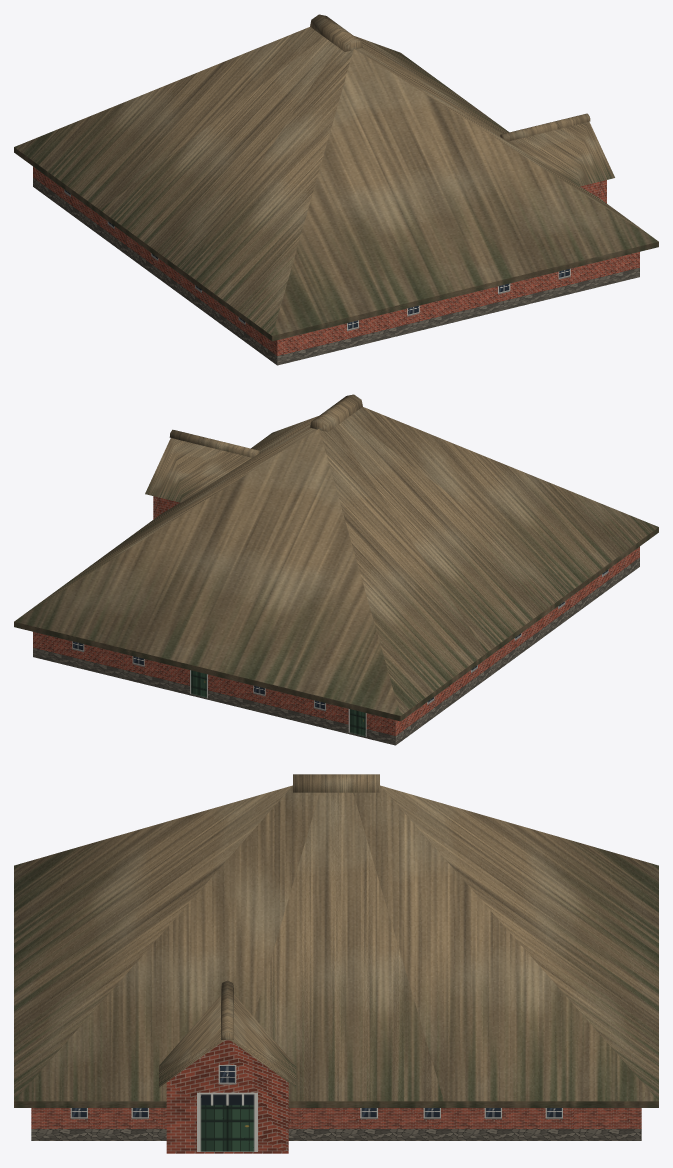
Rendered from SM_Farm_Haubarg.fbx.
3 renders of one model, top to bottom at view 1: azimuth 30°, elevation 25°; view 2: azimuth 150°, elevation 25°; view 3: azimuth 270°, elevation 25°, orthographic. The views are drawn at different scales.
Visible parts, largest first — view 1: SM_Farm_Haubarg; view 2: SM_Farm_Haubarg; view 3: SM_Farm_Haubarg.
Part boxes in pixels (<box>): SM_Farm_Haubarg: <box>14,14,658,365</box>; SM_Farm_Haubarg: <box>14,394,658,745</box>; SM_Farm_Haubarg: <box>14,774,658,1153</box>.
Size of the model in its own units: 2655 by 2960 by 1295.
1 material, 1 textured.
